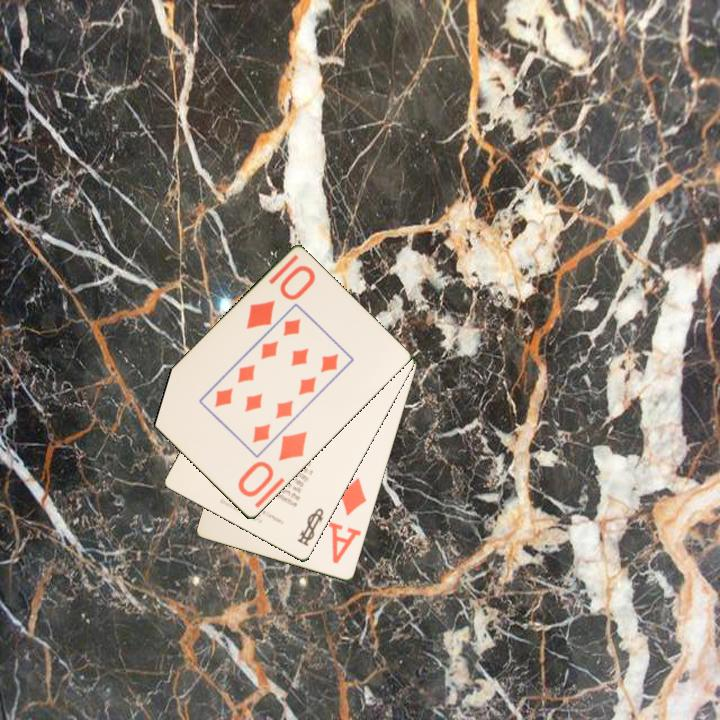10d: (234, 428, 310, 501), (242, 262, 318, 332)
Ad: (325, 474, 370, 567)
JK: (294, 505, 327, 549)
